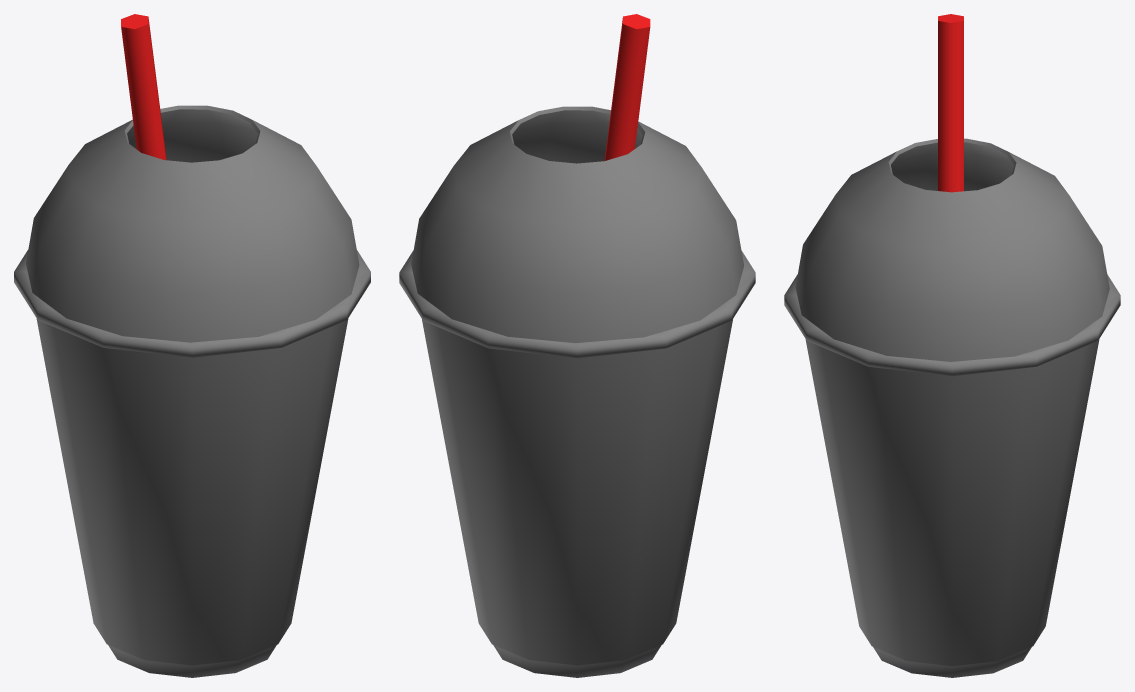
Rendered from Plastic waste - Milkshake cup.fbx.
3 renders of one model, left to right at view 1: azimuth 30°, elevation 25°; view 2: azimuth 150°, elevation 25°; view 3: azimuth 270°, elevation 25°, orthographic. The views are drawn at different scales.
Parts seen in each view (by area): view 1: Cylinder001; view 2: Cylinder001; view 3: Cylinder001.
Part boxes in pixels (left/top/right/bottom): Cylinder001: left=14, top=14, right=370, bottom=677; Cylinder001: left=399, top=14, right=755, bottom=677; Cylinder001: left=784, top=14, right=1120, bottom=677.
Bounding box in the file's own units: 34.65 × 68.17 × 34.65.
